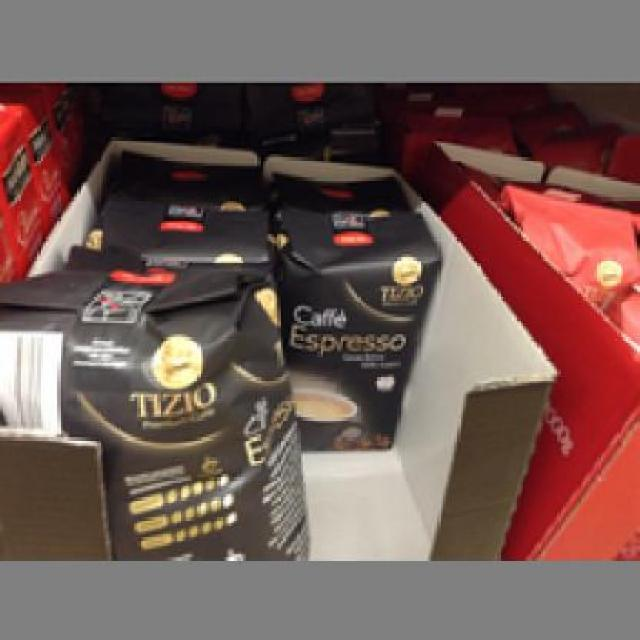Coffee: (0, 268, 306, 554), (269, 173, 440, 450)
